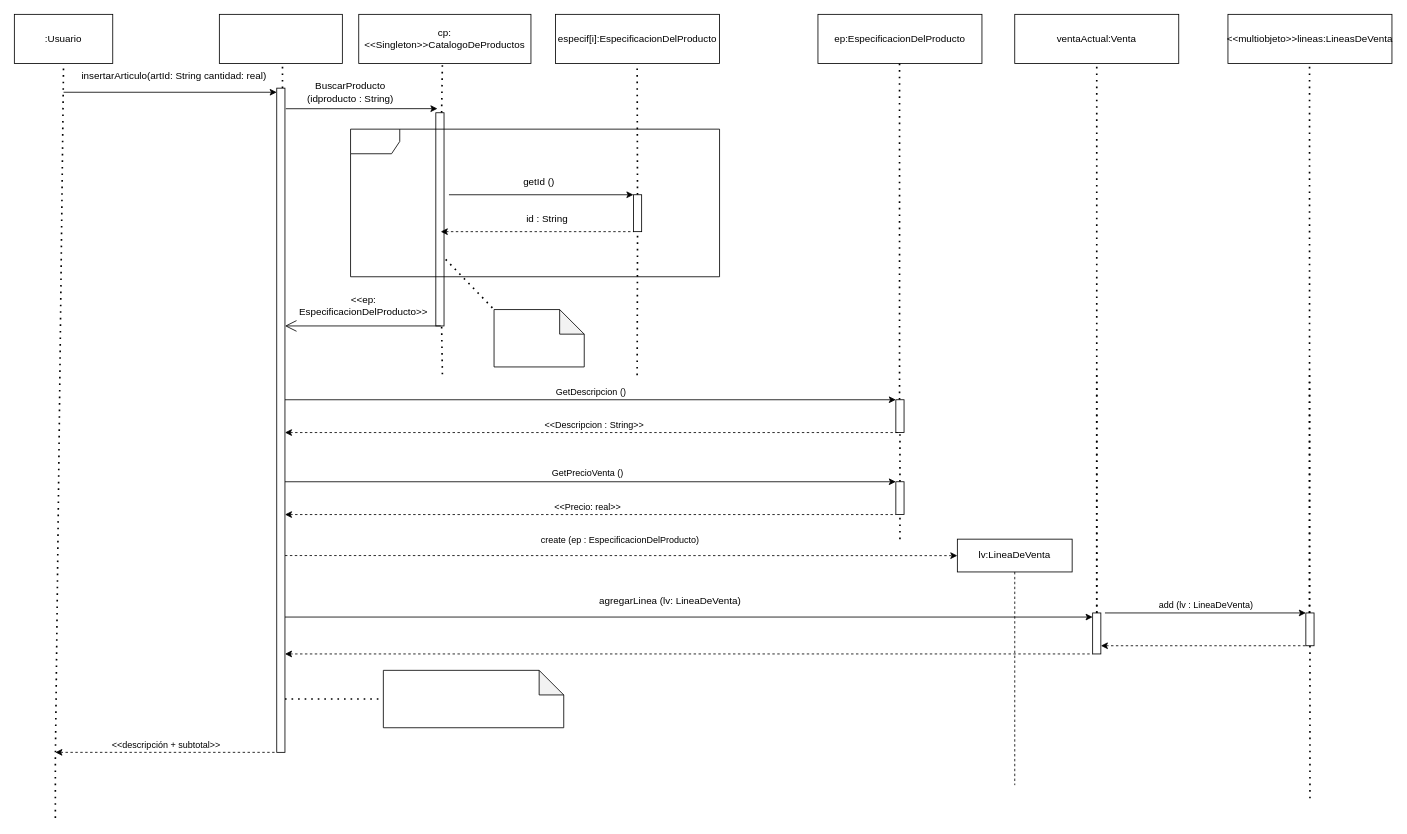
Some shapes in this 1407 by 834 pixel diagram are drawn without their labels. The shapes that lost their labels are listed below. From the top down, each one's centre as x and y in pixels, then its label:
At point 280,39: "CPV:ControlProcesarVenta".
At point 535,202: "Bucle".
At point 538,338: "si id = idproducto ep = espicif[i] cortar iteración".
At point 473,699: "Subtotal = Subtotal + (Cantidad * Precio)".
